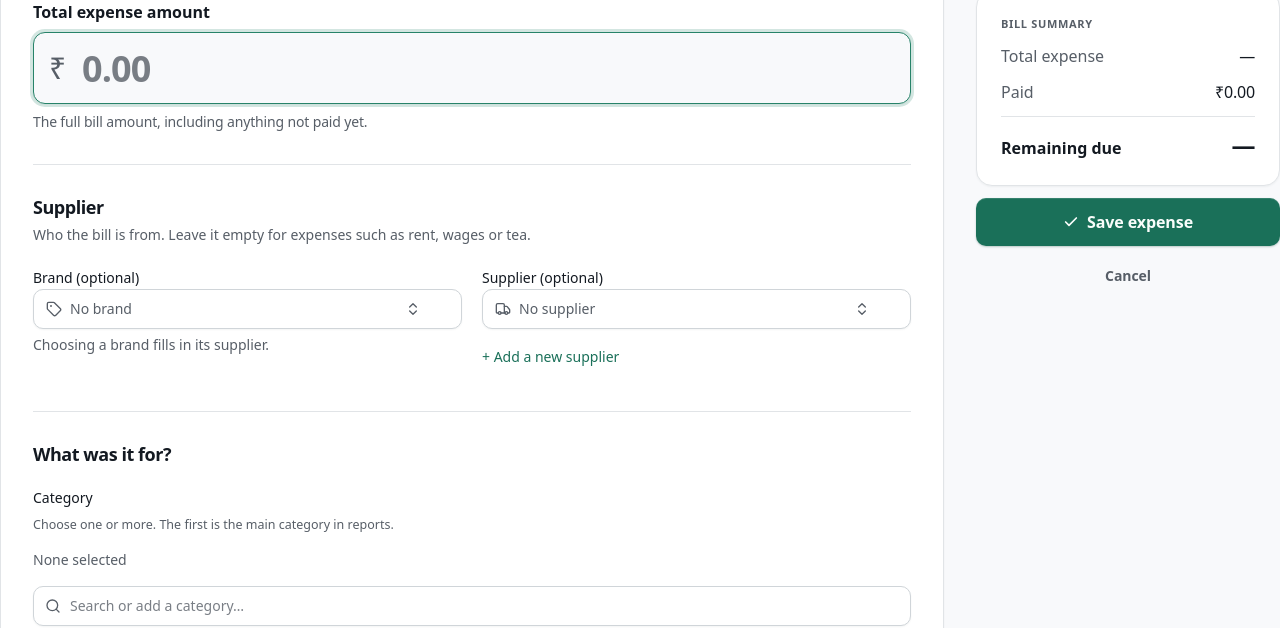
it: Add expense layout › shows Total, Paid and Remaining due with "Fully paid" or "Payment pending" in words
Step 1. Type "2500" into the field labelled "Total expense amount" → {"x": 472, "y": 68}, box [33,32,911,104]
(page scrolled)
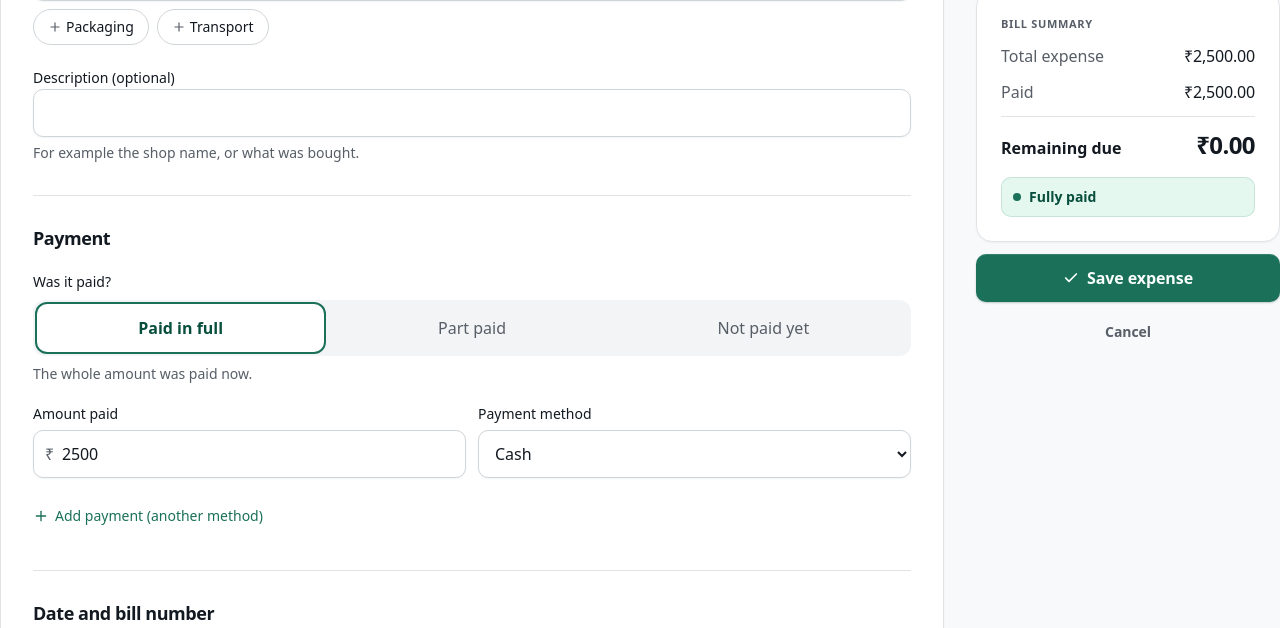
Expected: the 2nd text "₹2,500.00" is shown, [1184,80,1255,104]
Expected: the text with test id "payment-remaining" reads "₹0.00", [1196,128,1255,161]
Expected: the element with test id "payment-badge" reads "Fully paid", [1029,187,1096,206]
Step 2. Click the radio button labelled "Part paid" → {"x": 472, "y": 328}, box [328,304,616,352]
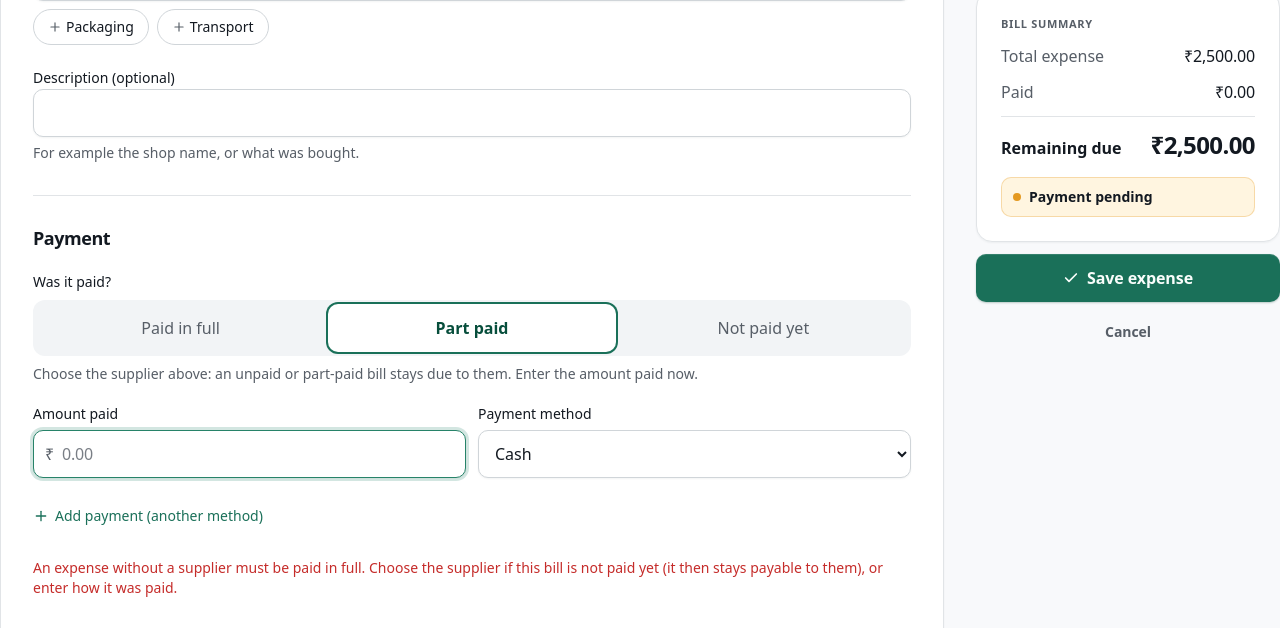
Step 3. Type "1000" into the field labelled "Amount paid" → {"x": 250, "y": 454}, box [33,430,466,478]
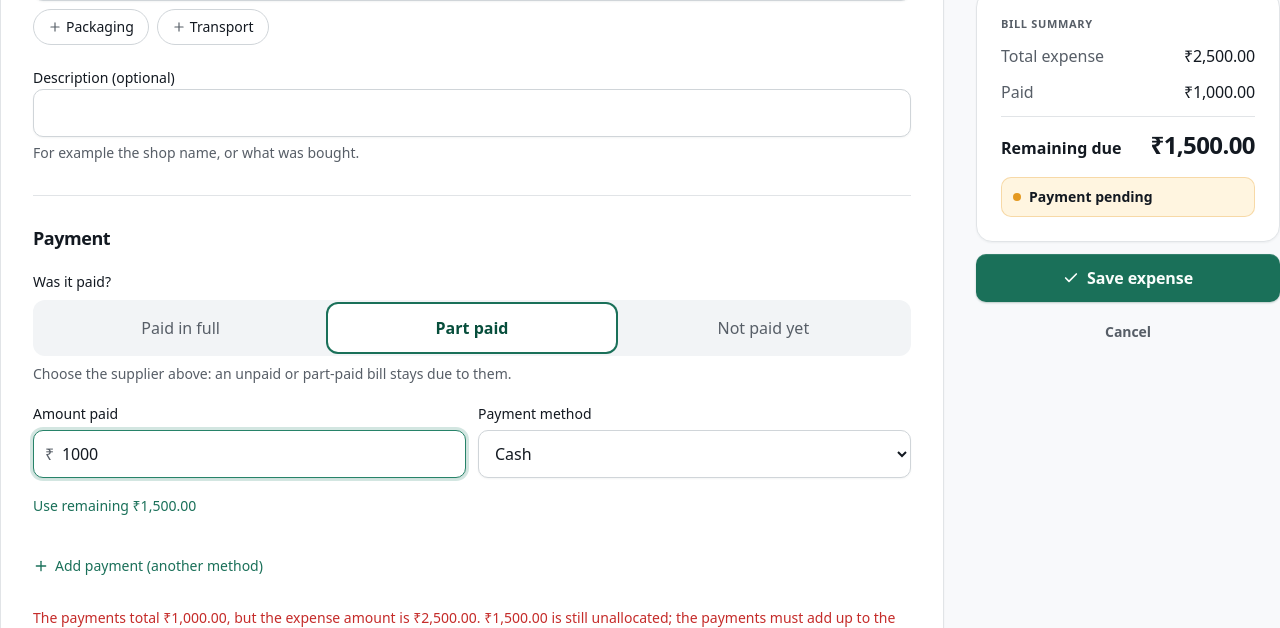
Expected: the element with test id "payment-badge" reads "Payment pending", [1029,187,1153,206]
Expected: the text "₹1,000.00" is shown, [1184,80,1255,104]
Expected: the text with test id "payment-remaining" reads "₹1,500.00", [1151,128,1255,161]
